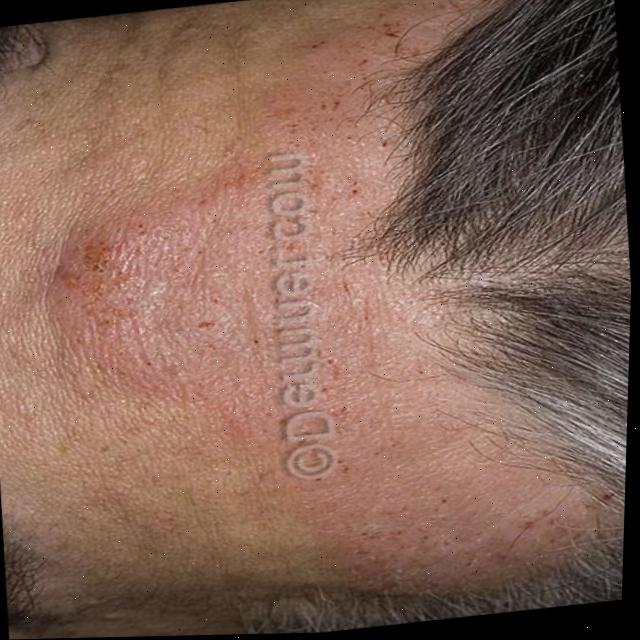Eczema: (73, 0, 563, 636)
